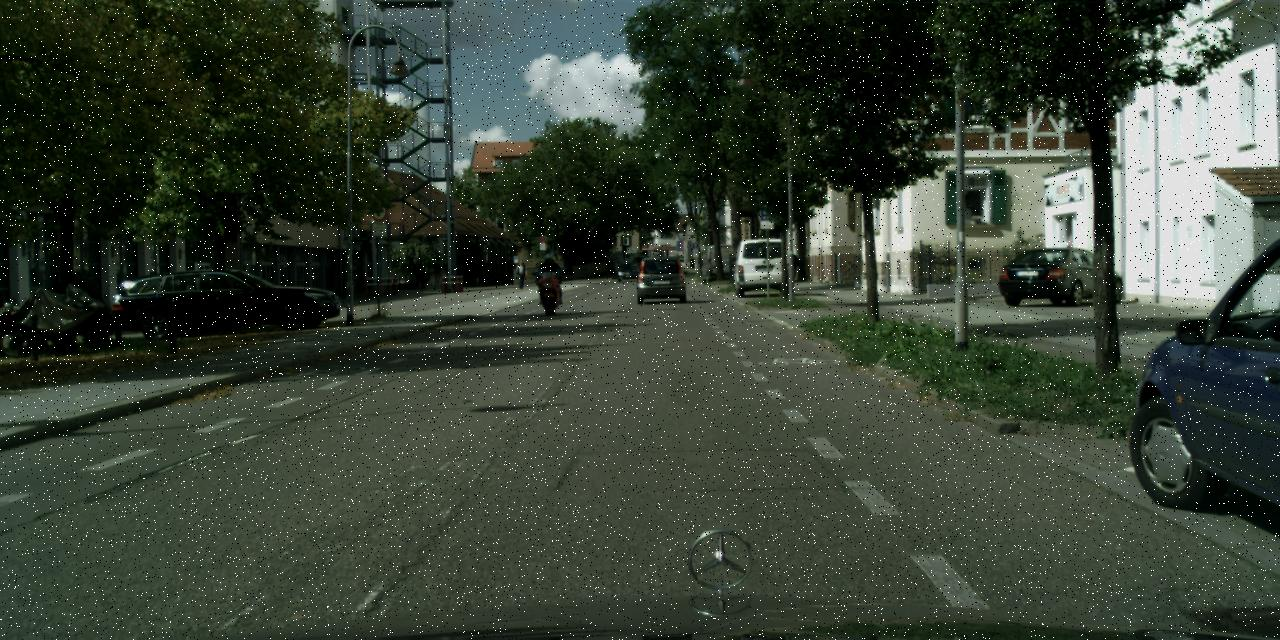ped: (539, 252, 559, 304), (784, 249, 797, 280), (514, 259, 526, 288)
